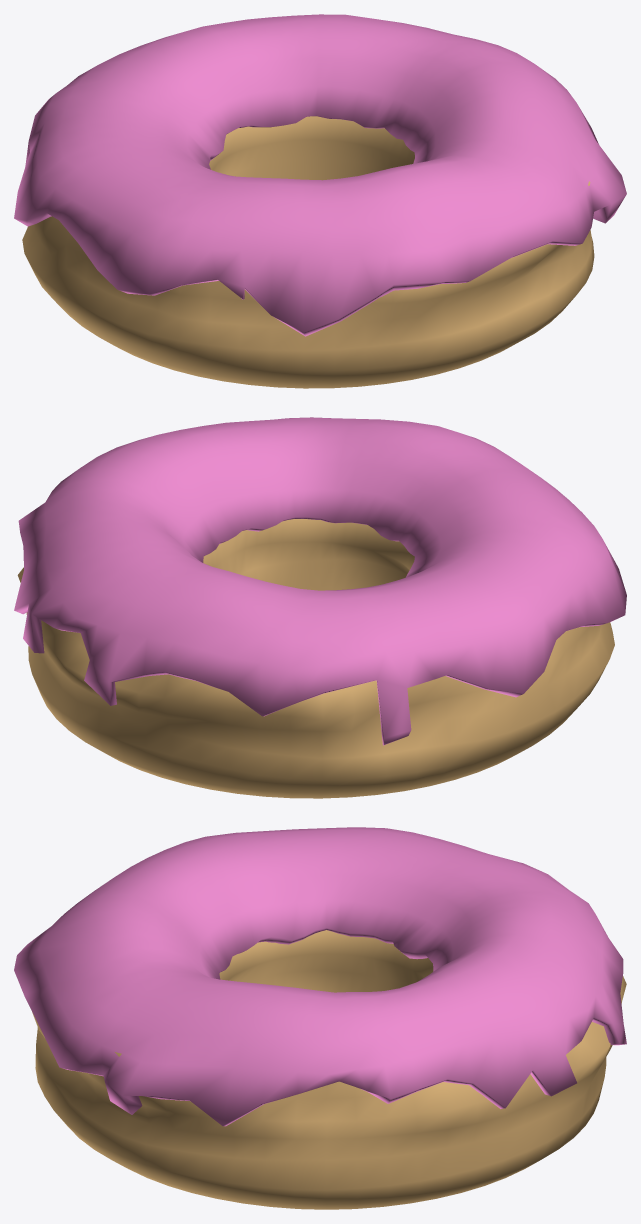
The model's file is donut.glb.
The picture shows the model from 3 angles, top to bottom: view 1: azimuth 30°, elevation 25°; view 2: azimuth 150°, elevation 25°; view 3: azimuth 270°, elevation 25°; orthographic projection. The views are drawn at different scales.
Visible parts, largest first — view 1: Icing, Donut; view 2: Icing, Donut; view 3: Icing, Donut.
Boxes of the visible parts, box(x1,y1,x2,y2) form: Icing: box(14, 14, 626, 336); Donut: box(22, 116, 594, 388); Icing: box(14, 417, 626, 745); Donut: box(17, 519, 614, 798); Icing: box(14, 827, 626, 1126); Donut: box(32, 930, 626, 1209).
Size of what is drawn, in the model's own units: 0.148 by 0.0547 by 0.1497.
